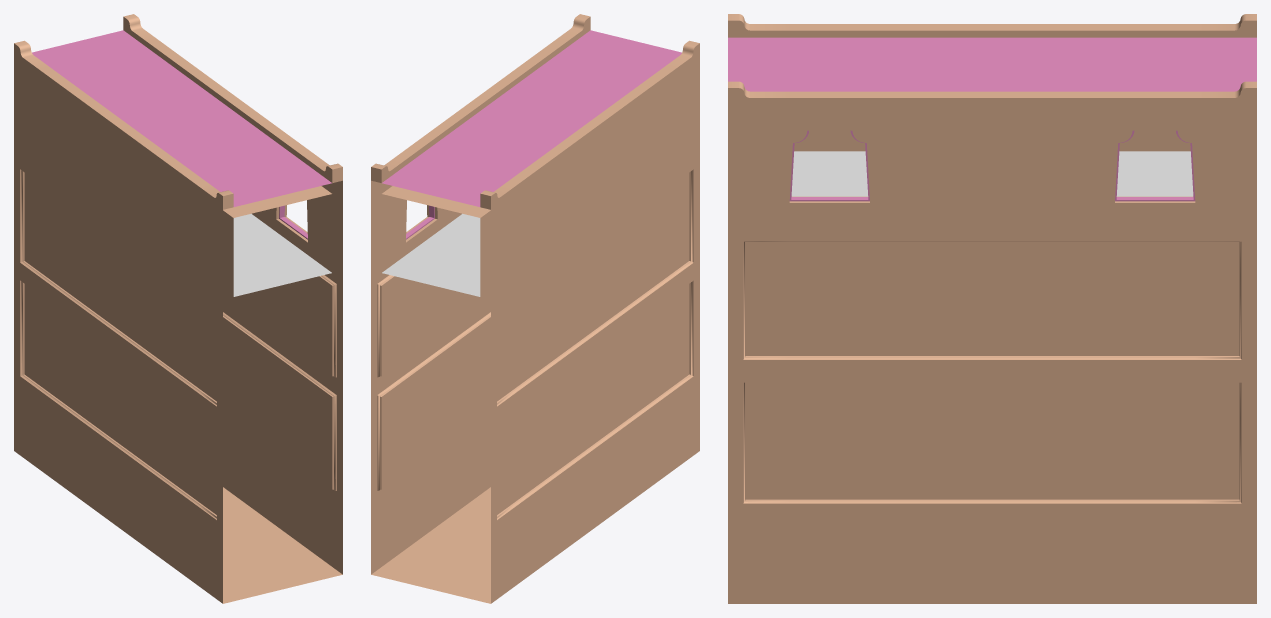
Rendered from Bridge Building.fbx.
3 views of the same model, side by side, from view 1: azimuth 30°, elevation 25°; view 2: azimuth 150°, elevation 25°; view 3: azimuth 270°, elevation 25° (orthographic). The views are drawn at different scales.
Visible parts, largest first — view 1: Bridge Building; view 2: Bridge Building; view 3: Bridge Building.
Part boxes in pixels (x1,y1,x2,y2): Bridge Building: (14,14,342,603); Bridge Building: (371,14,699,603); Bridge Building: (728,14,1256,603).
Size of the model in its own units: 1110 by 3610 by 3354.
